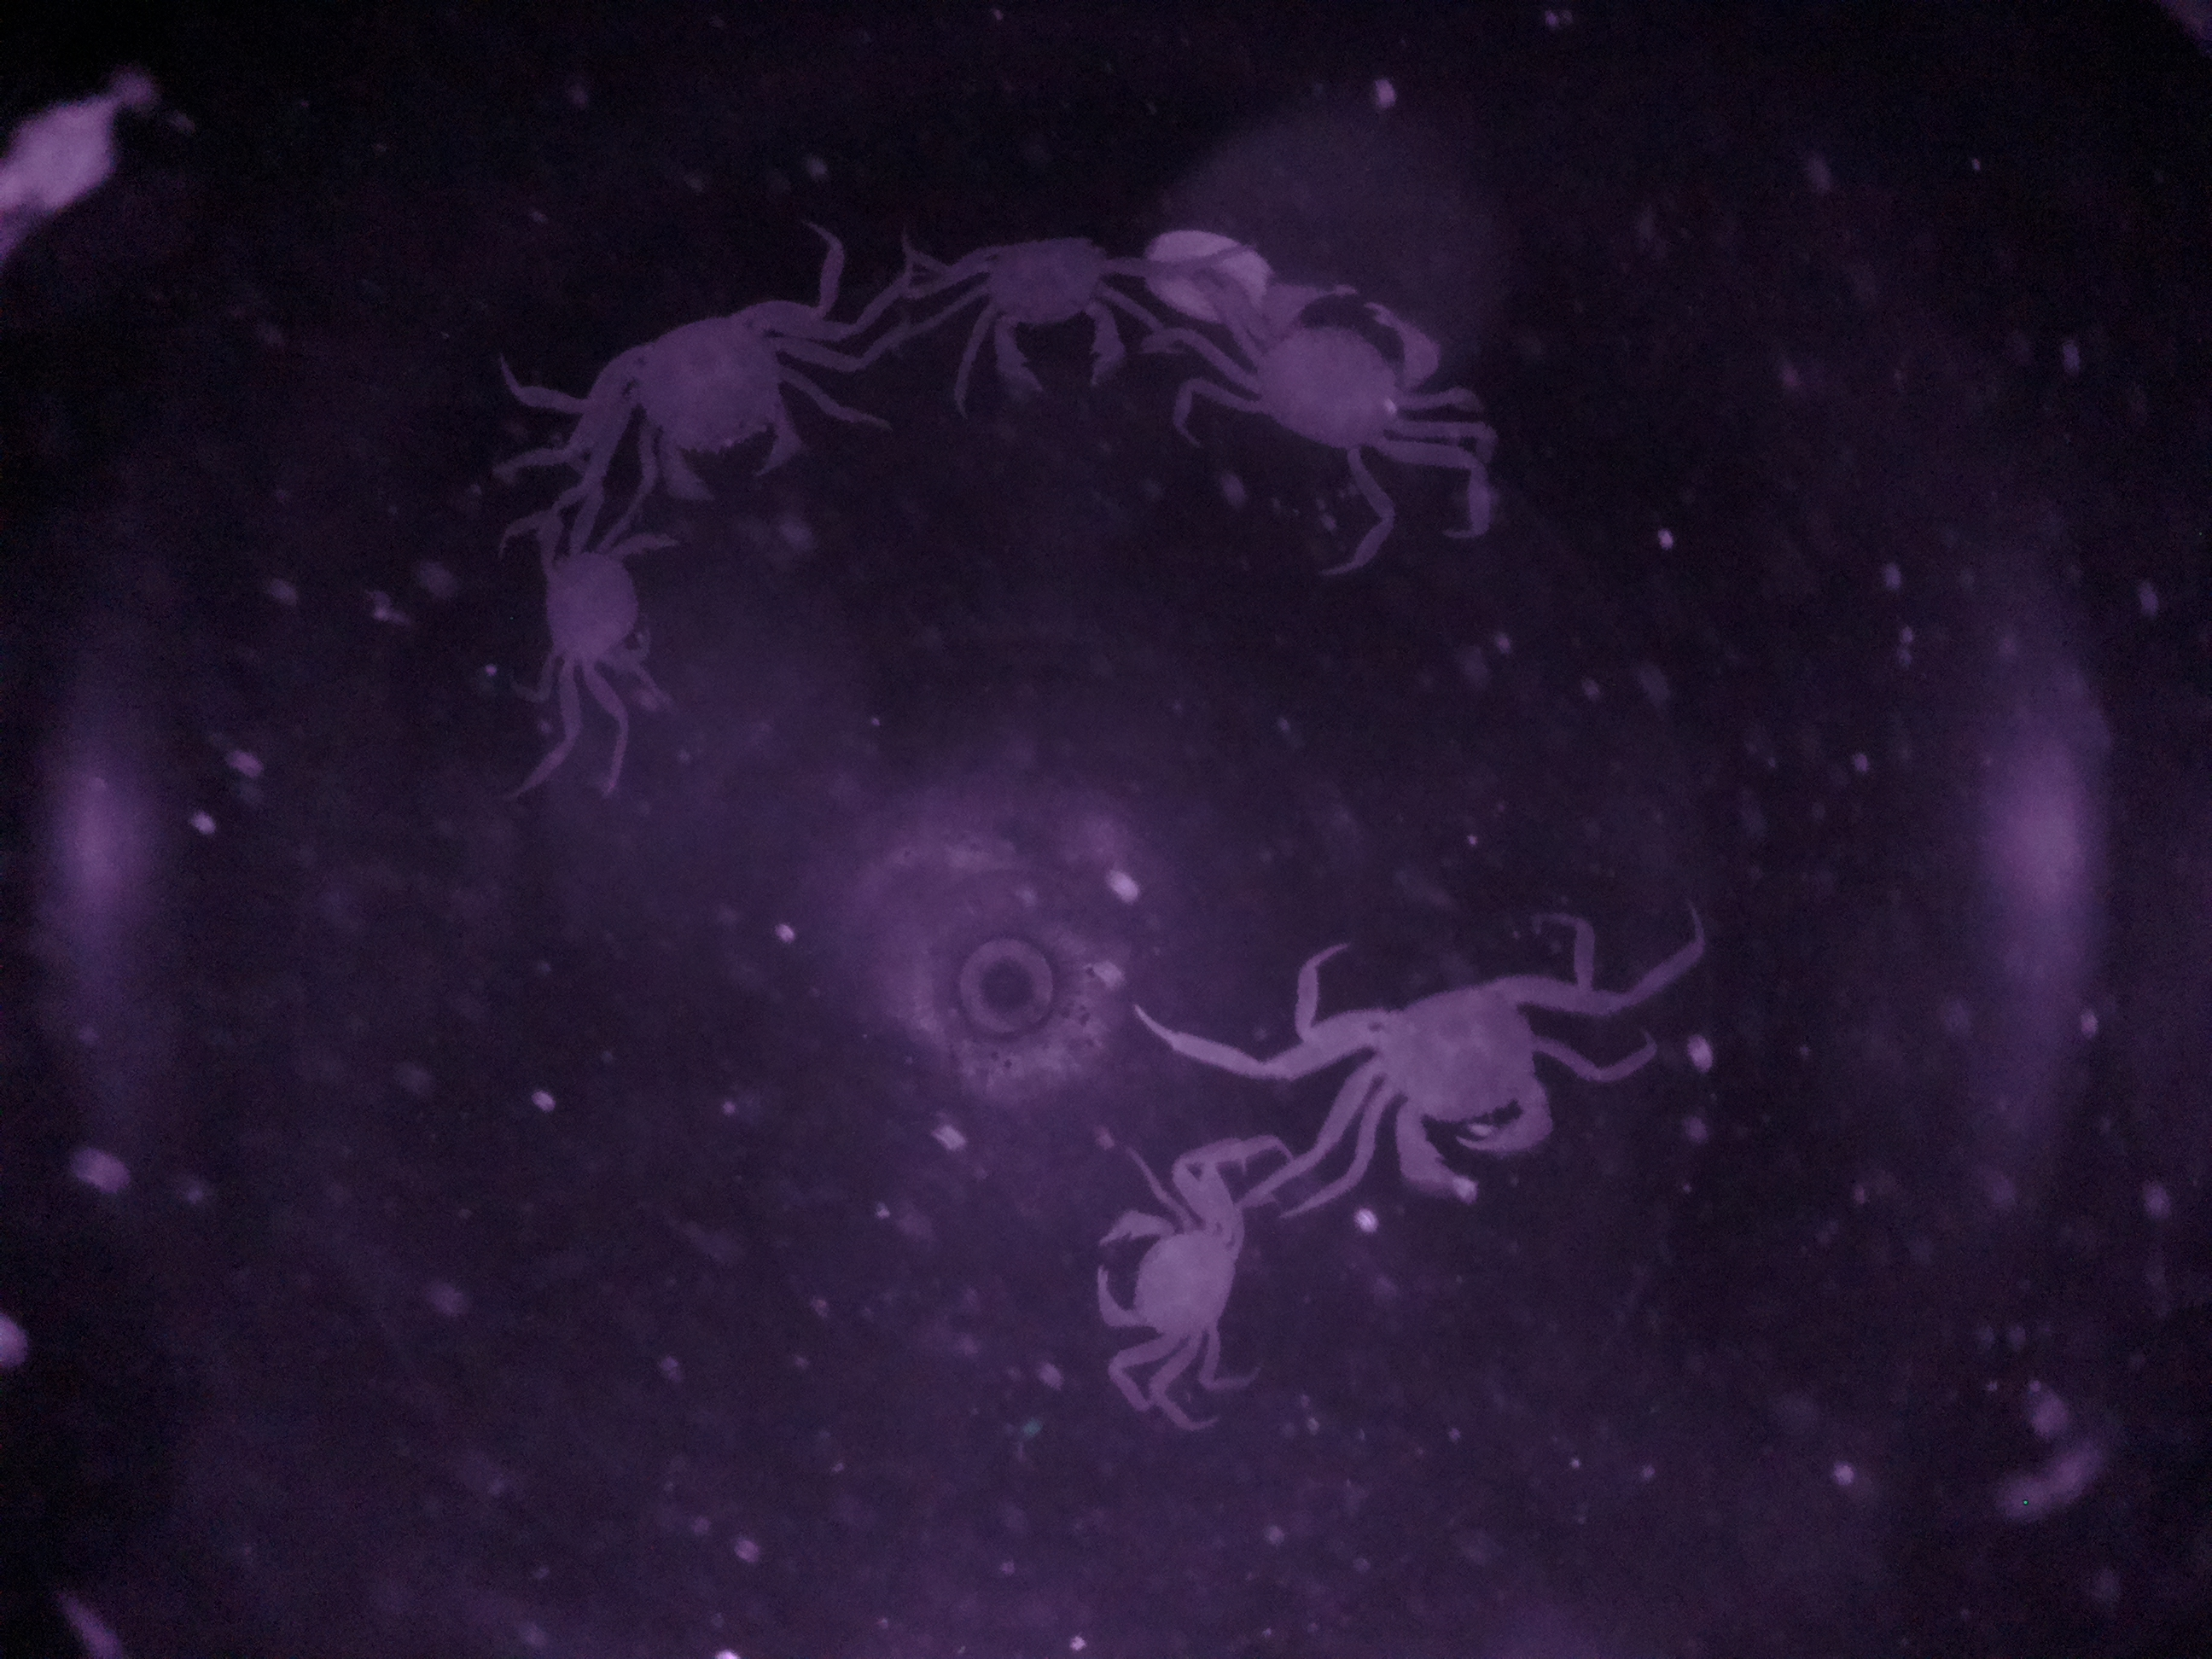Crab: (1318, 962, 1575, 1220), (587, 275, 846, 525), (1214, 265, 1472, 455), (951, 218, 1158, 420), (509, 488, 693, 709), (1078, 1187, 1249, 1375)
